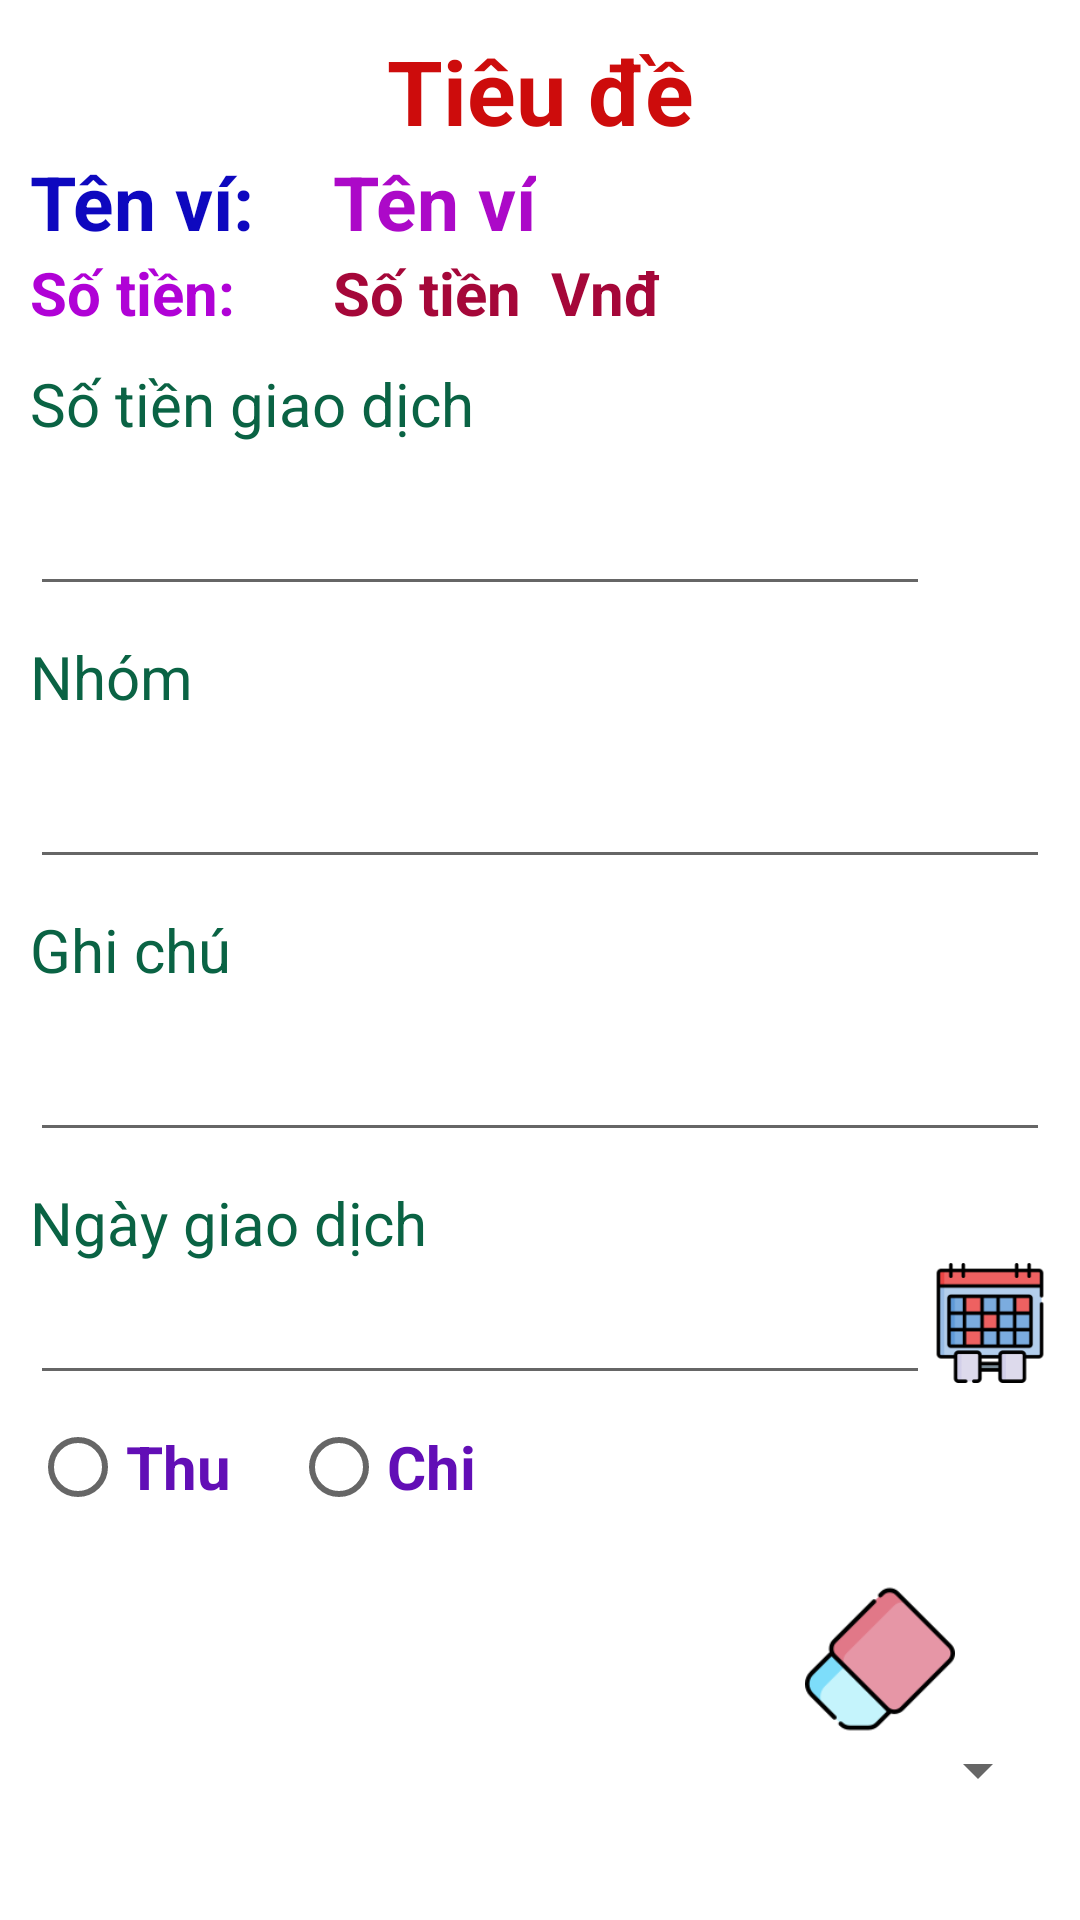

Point at icon controls on the screen. Image size 1080px x 1920px, points as point (x, y).
eraser: point (880, 1659)
lich: point (990, 1323)
